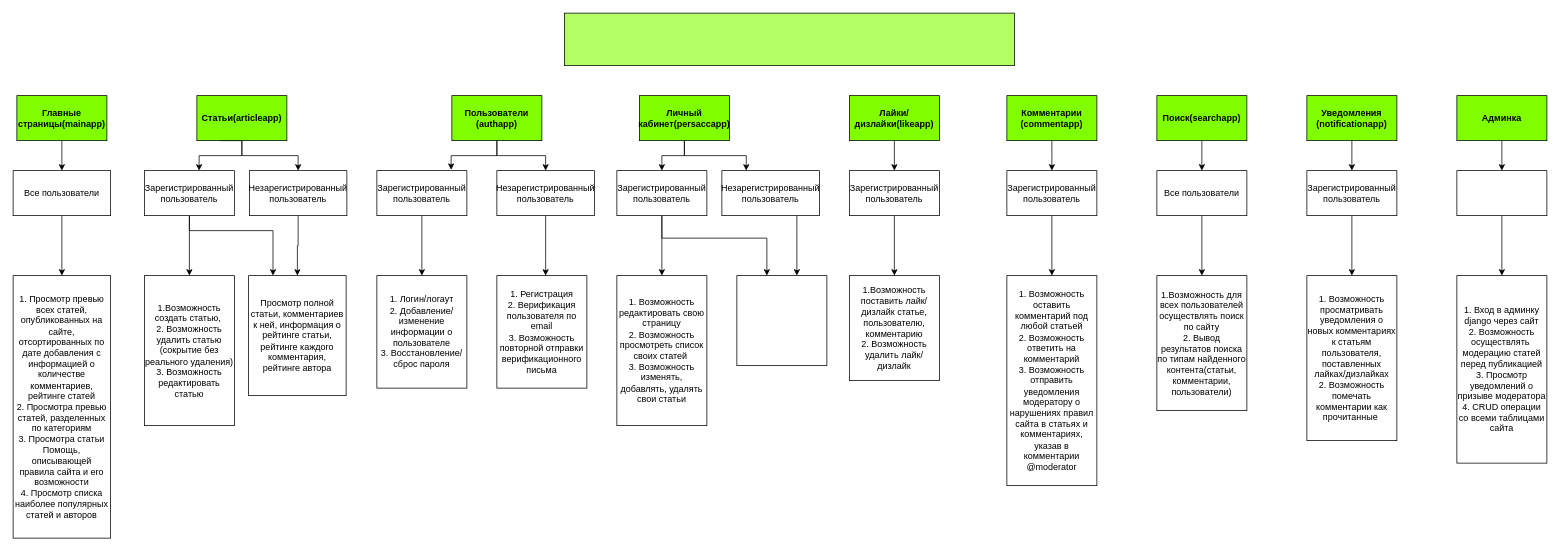
This 1560x551 diagram has some shape labels left out. Here are the shapes that lost their labels. From the top down, the centre of each, then its label:
At [789,39]: "SENT_HABR".
At [1501,193]: "Админ".
At [781,320]: "Просмотр полной информации о любом пользователе".
